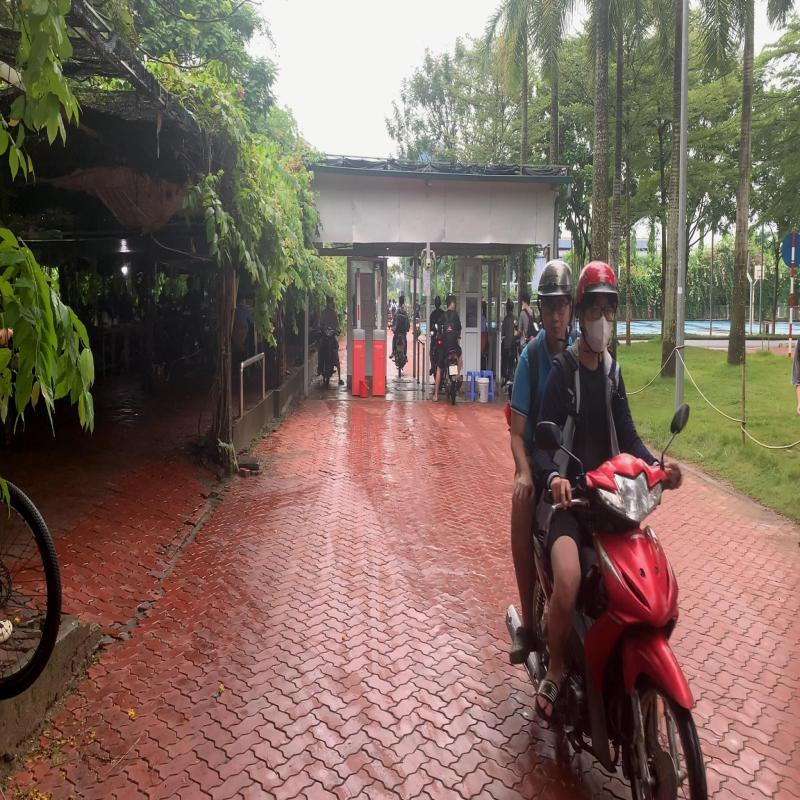nohelmet: (446, 294, 456, 310), (399, 293, 406, 307)
